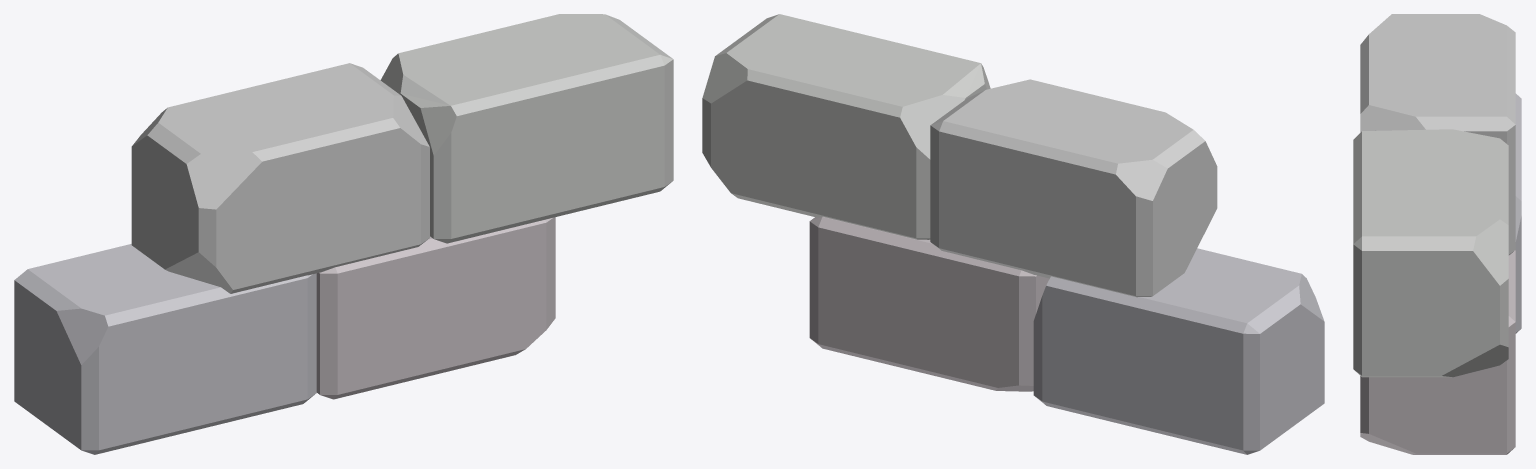
File: Rock_Blocks_m_03.fbx
3 views of the same model, side by side, from view 1: azimuth 30°, elevation 25°; view 2: azimuth 150°, elevation 25°; view 3: azimuth 270°, elevation 25° (orthographic). The views are drawn at different scales.
Parts seen in each view (by area): view 1: Rock_Blocks_m_03; view 2: Rock_Blocks_m_03; view 3: Rock_Blocks_m_03.
Part boxes in pixels (left/top/right/bottom): Rock_Blocks_m_03: left=14, top=14, right=673, bottom=454; Rock_Blocks_m_03: left=702, top=14, right=1324, bottom=454; Rock_Blocks_m_03: left=1353, top=14, right=1521, bottom=454.
Size of the model in its own units: 282 by 124 by 68.22.
